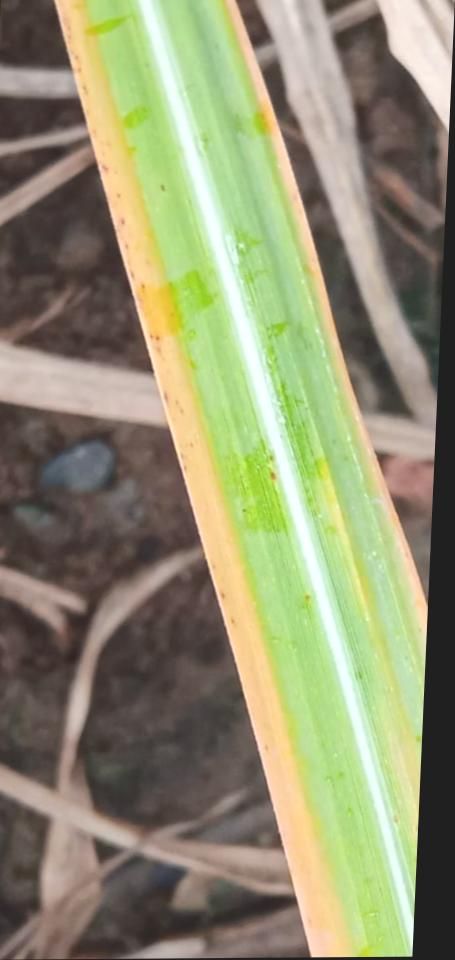Rust: (162, 390, 169, 406), (267, 471, 277, 482), (81, 85, 89, 96), (101, 164, 110, 173), (159, 182, 166, 193), (219, 591, 226, 601), (123, 242, 130, 252), (129, 270, 135, 281), (303, 595, 311, 603), (154, 346, 162, 354), (229, 617, 236, 626), (119, 216, 125, 225), (178, 408, 184, 416), (114, 192, 120, 200), (178, 452, 184, 459), (154, 335, 160, 342), (182, 464, 187, 472), (139, 283, 145, 289), (263, 745, 268, 752), (269, 455, 274, 461), (148, 333, 153, 339), (66, 25, 71, 31), (73, 55, 78, 61), (242, 506, 246, 513), (189, 442, 194, 447), (175, 399, 179, 405), (77, 68, 81, 74), (106, 141, 110, 147), (67, 35, 71, 40), (211, 565, 215, 569), (113, 171, 117, 174)
Yellow: (53, 0, 354, 957), (215, 0, 426, 641)
